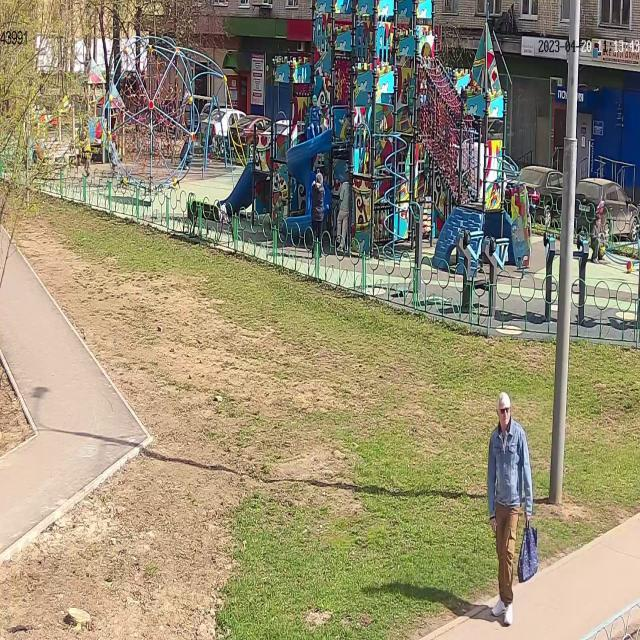person: (486, 392, 533, 626)
